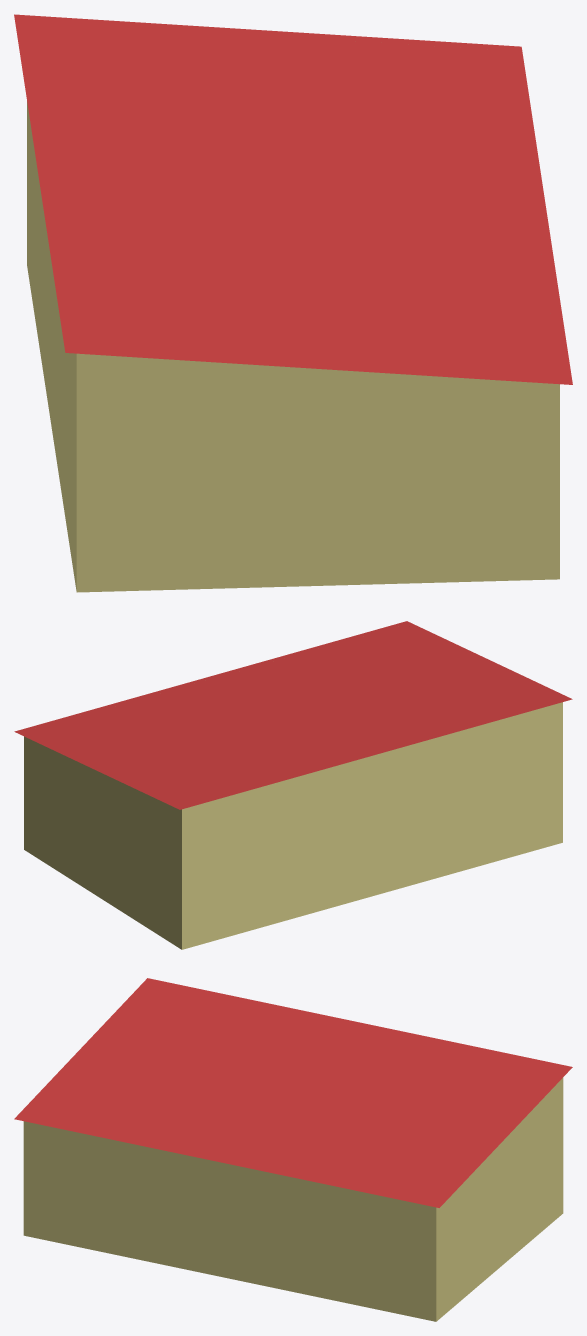
3 views of the same model, one above another, from view 1: azimuth 30°, elevation 25°; view 2: azimuth 150°, elevation 25°; view 3: azimuth 270°, elevation 25° (orthographic). The views are drawn at different scales.
Size of the model in its own units: 33.45 by 38.93 by 11.14.
